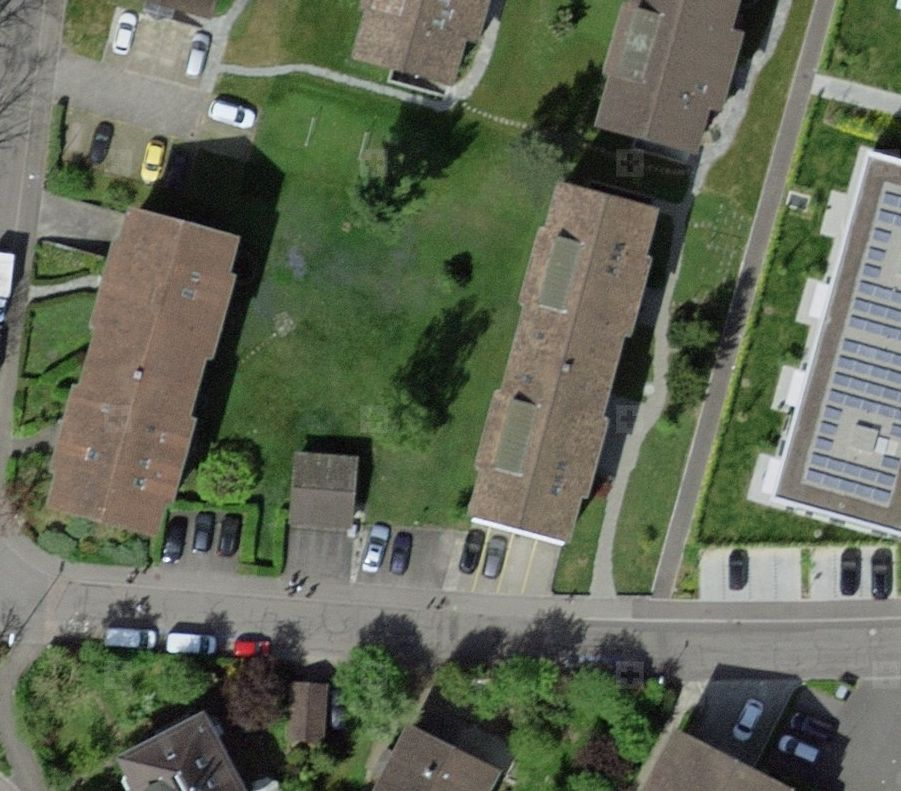solar: (802, 187, 901, 506)
